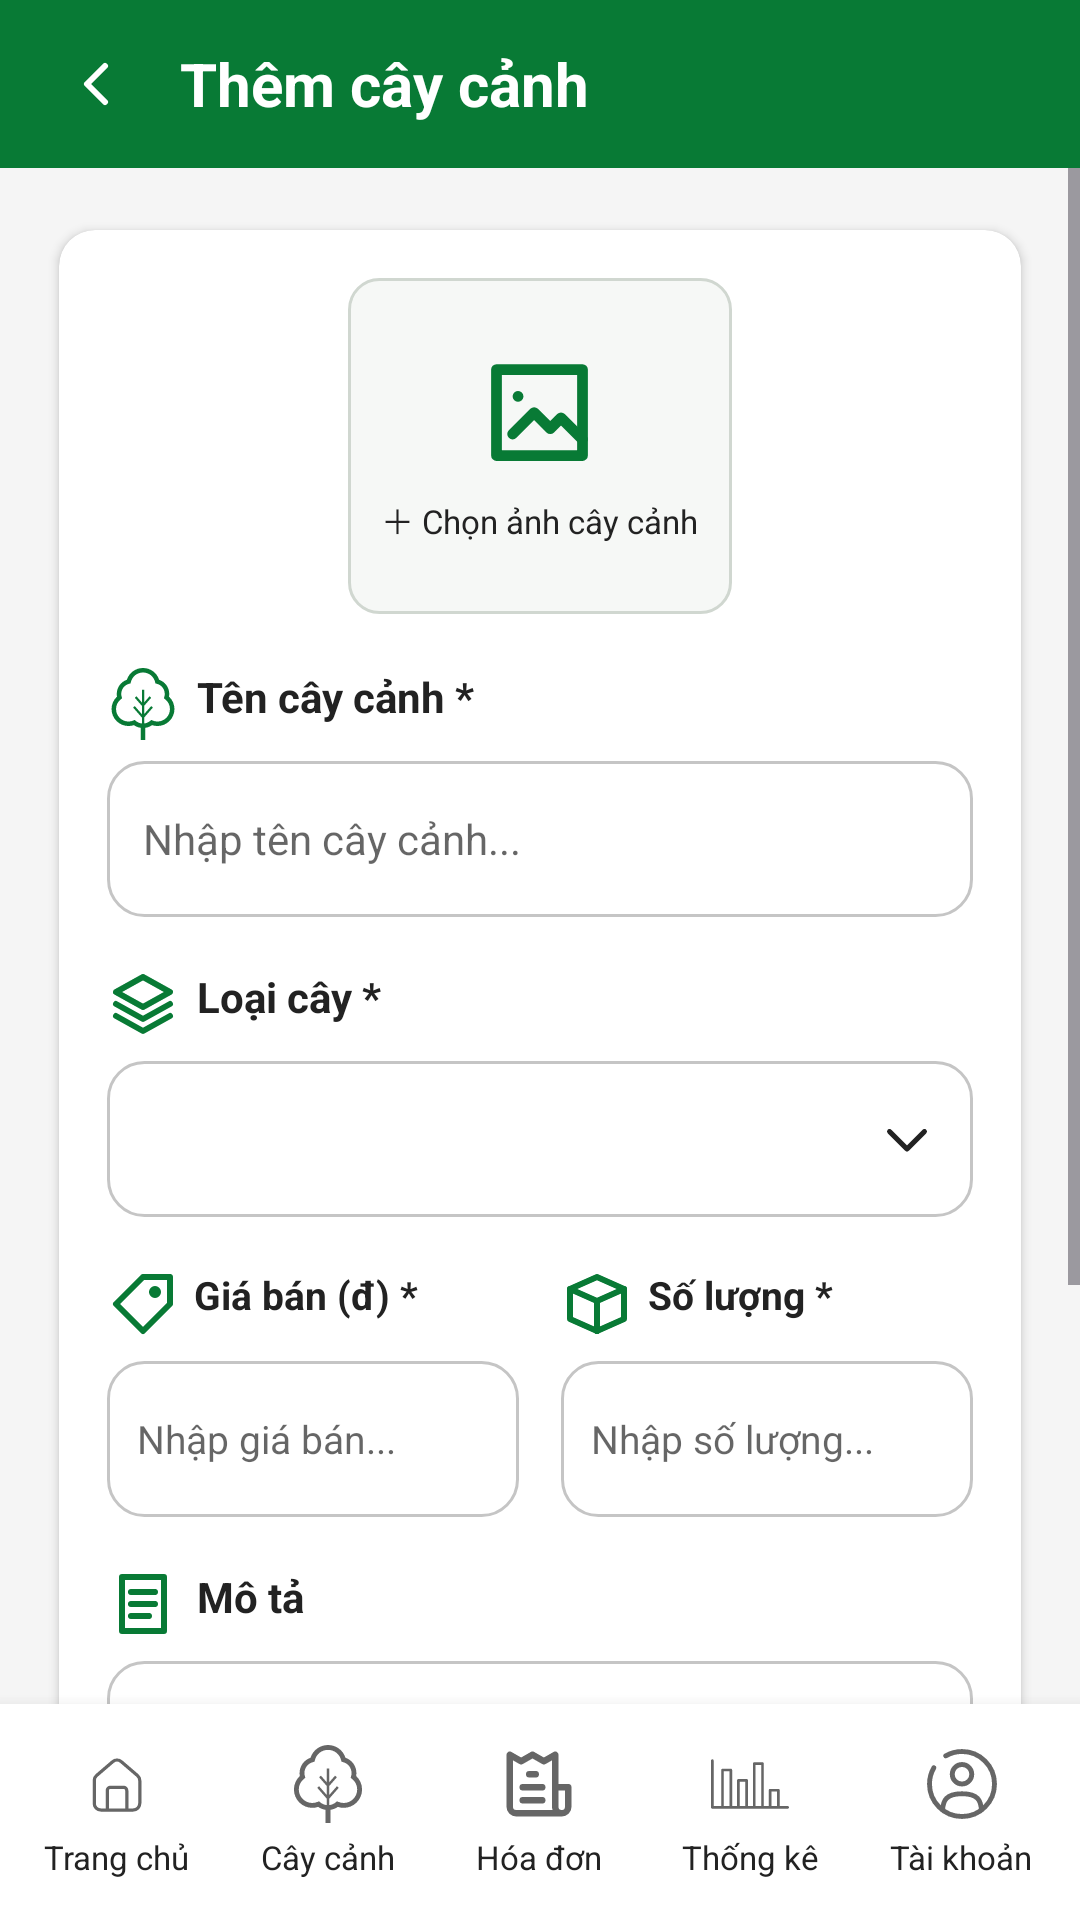

Named icons in this screenshot (1080×1920) and their centers, (x,y):
chart: (750,1784)
down: (907,1140)
Quay lại: (96,84)
user: (962,1784)
